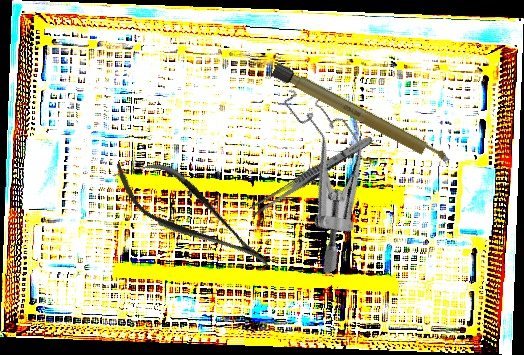Dressing Forceps: (248, 132, 375, 219)
Micro Scissor: (101, 140, 285, 290)
Scalpel Handle: (271, 62, 452, 169)
Speculum: (230, 72, 413, 276)
